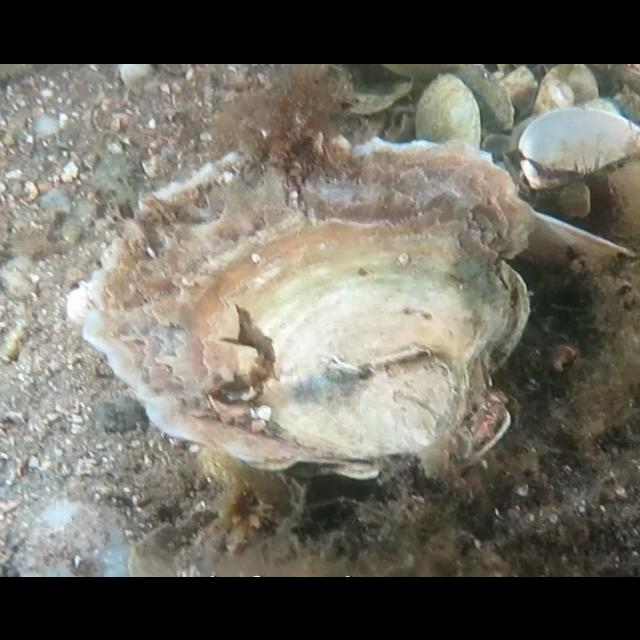Oyster-Closed: (64, 132, 534, 482)
